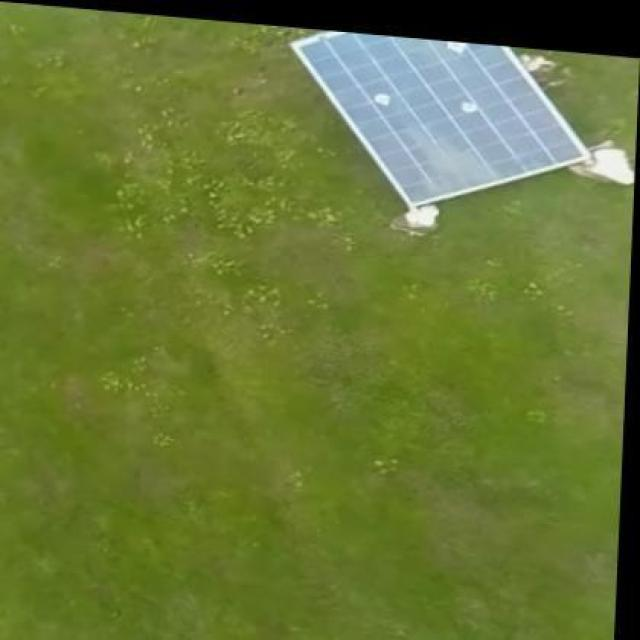soiled: (283, 29, 590, 204)
